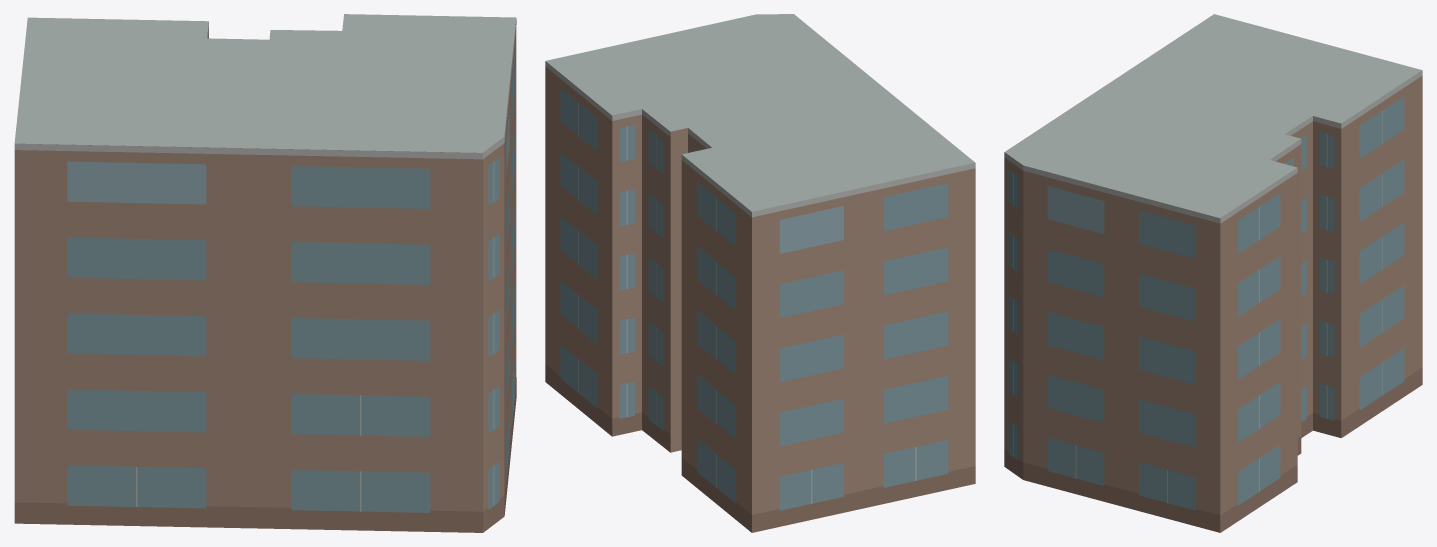
Rendered from survey-upis-32707425.glb.
The picture shows the model from 3 angles, left to right: view 1: azimuth 30°, elevation 25°; view 2: azimuth 150°, elevation 25°; view 3: azimuth 270°, elevation 25°; orthographic projection. The views are drawn at different scales.
Visible parts, largest first — view 1: survey-upis-32707425.tmp; view 2: survey-upis-32707425.tmp; view 3: survey-upis-32707425.tmp.
Part boxes in pixels (<box>): survey-upis-32707425.tmp: <box>14,14,516,532</box>; survey-upis-32707425.tmp: <box>545,14,975,532</box>; survey-upis-32707425.tmp: <box>1004,14,1422,532</box>.
Size of the model in its own units: 20.06 by 14.4 by 17.35.
